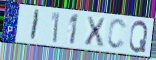1: (67, 13, 80, 46), (50, 11, 61, 44)
C: (106, 18, 128, 51)
I: (29, 8, 42, 42)
Q: (128, 20, 149, 54)
X: (84, 15, 107, 48)
